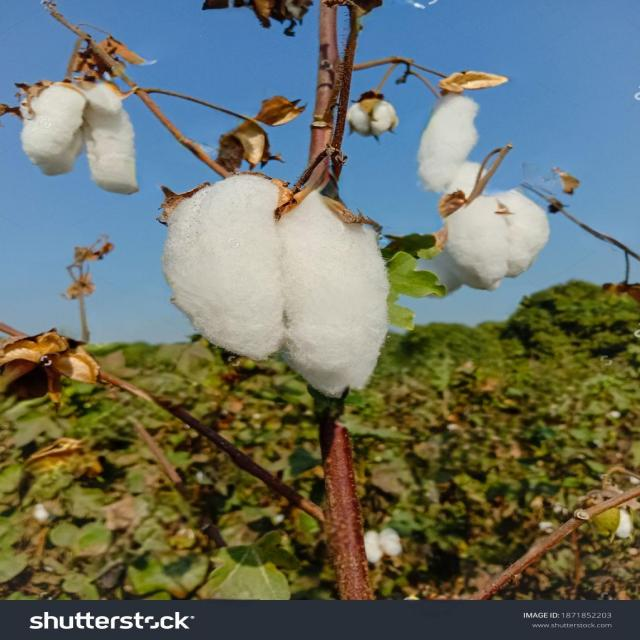Leaf: (149, 149, 405, 408), (410, 187, 568, 307), (17, 77, 149, 209), (398, 90, 515, 207), (333, 92, 410, 147)
